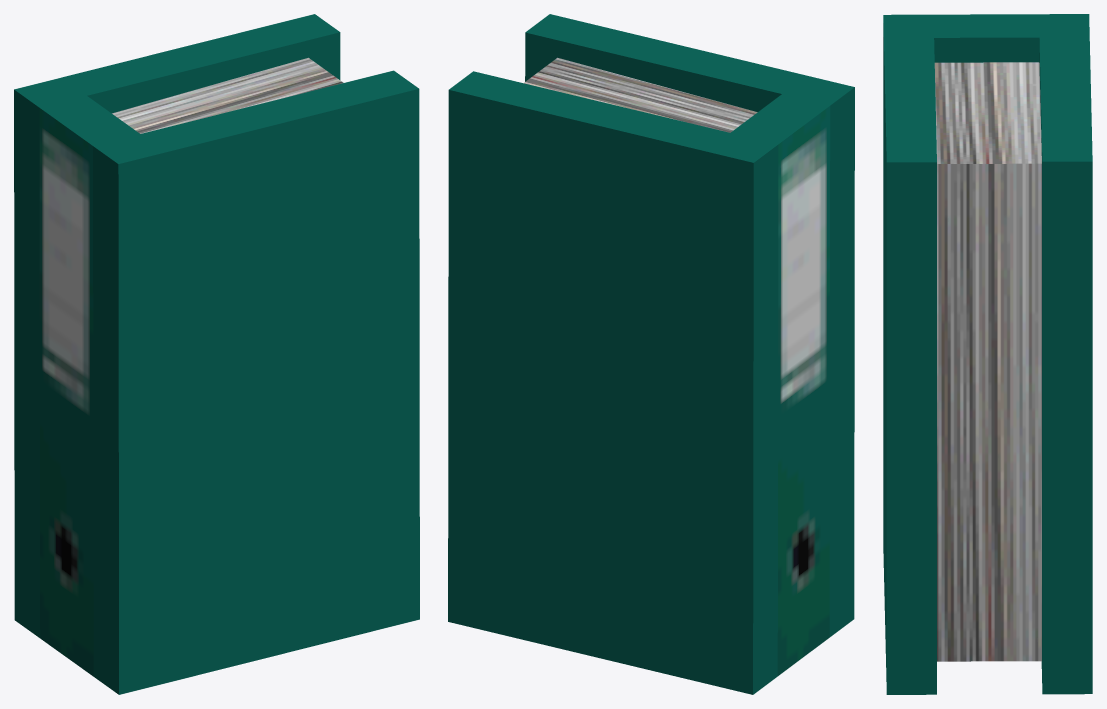
Rendered from object_28_lev1.glb.
3 renders of one model, left to right at view 1: azimuth 30°, elevation 25°; view 2: azimuth 150°, elevation 25°; view 3: azimuth 270°, elevation 25°, orthographic.
Parts seen in each view (by area): view 1: object_28_lev1; view 2: object_28_lev1; view 3: object_28_lev1.
Part boxes in pixels (box(x1,y1,x2,y2)): object_28_lev1: box(14, 14, 419, 694); object_28_lev1: box(448, 14, 854, 694); object_28_lev1: box(883, 14, 1092, 694).
Bounding box in the file's own units: 0.2211 × 0.3681 × 0.1311.
Materials: 1 (1 with a texture image).
